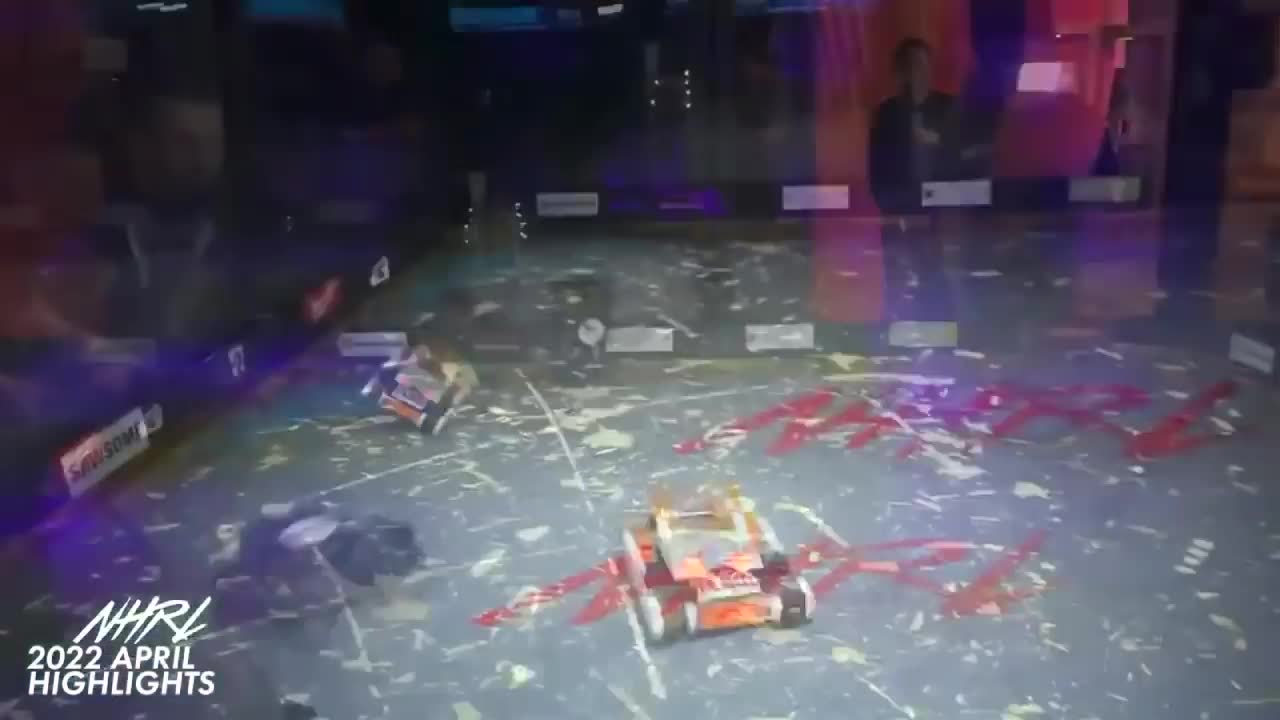combatbot: (620, 486, 816, 634), (360, 345, 479, 437)
